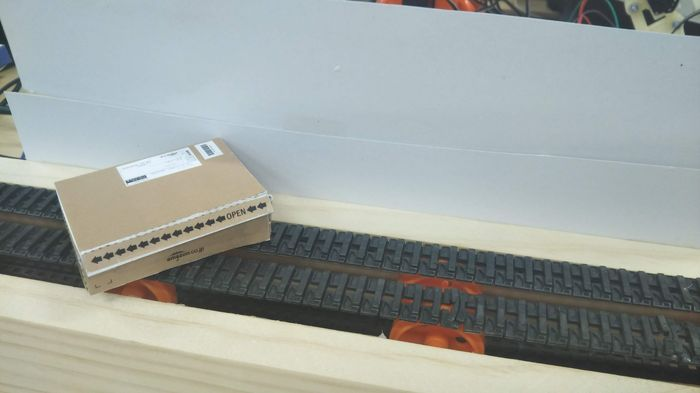box2: (48, 131, 274, 293)
